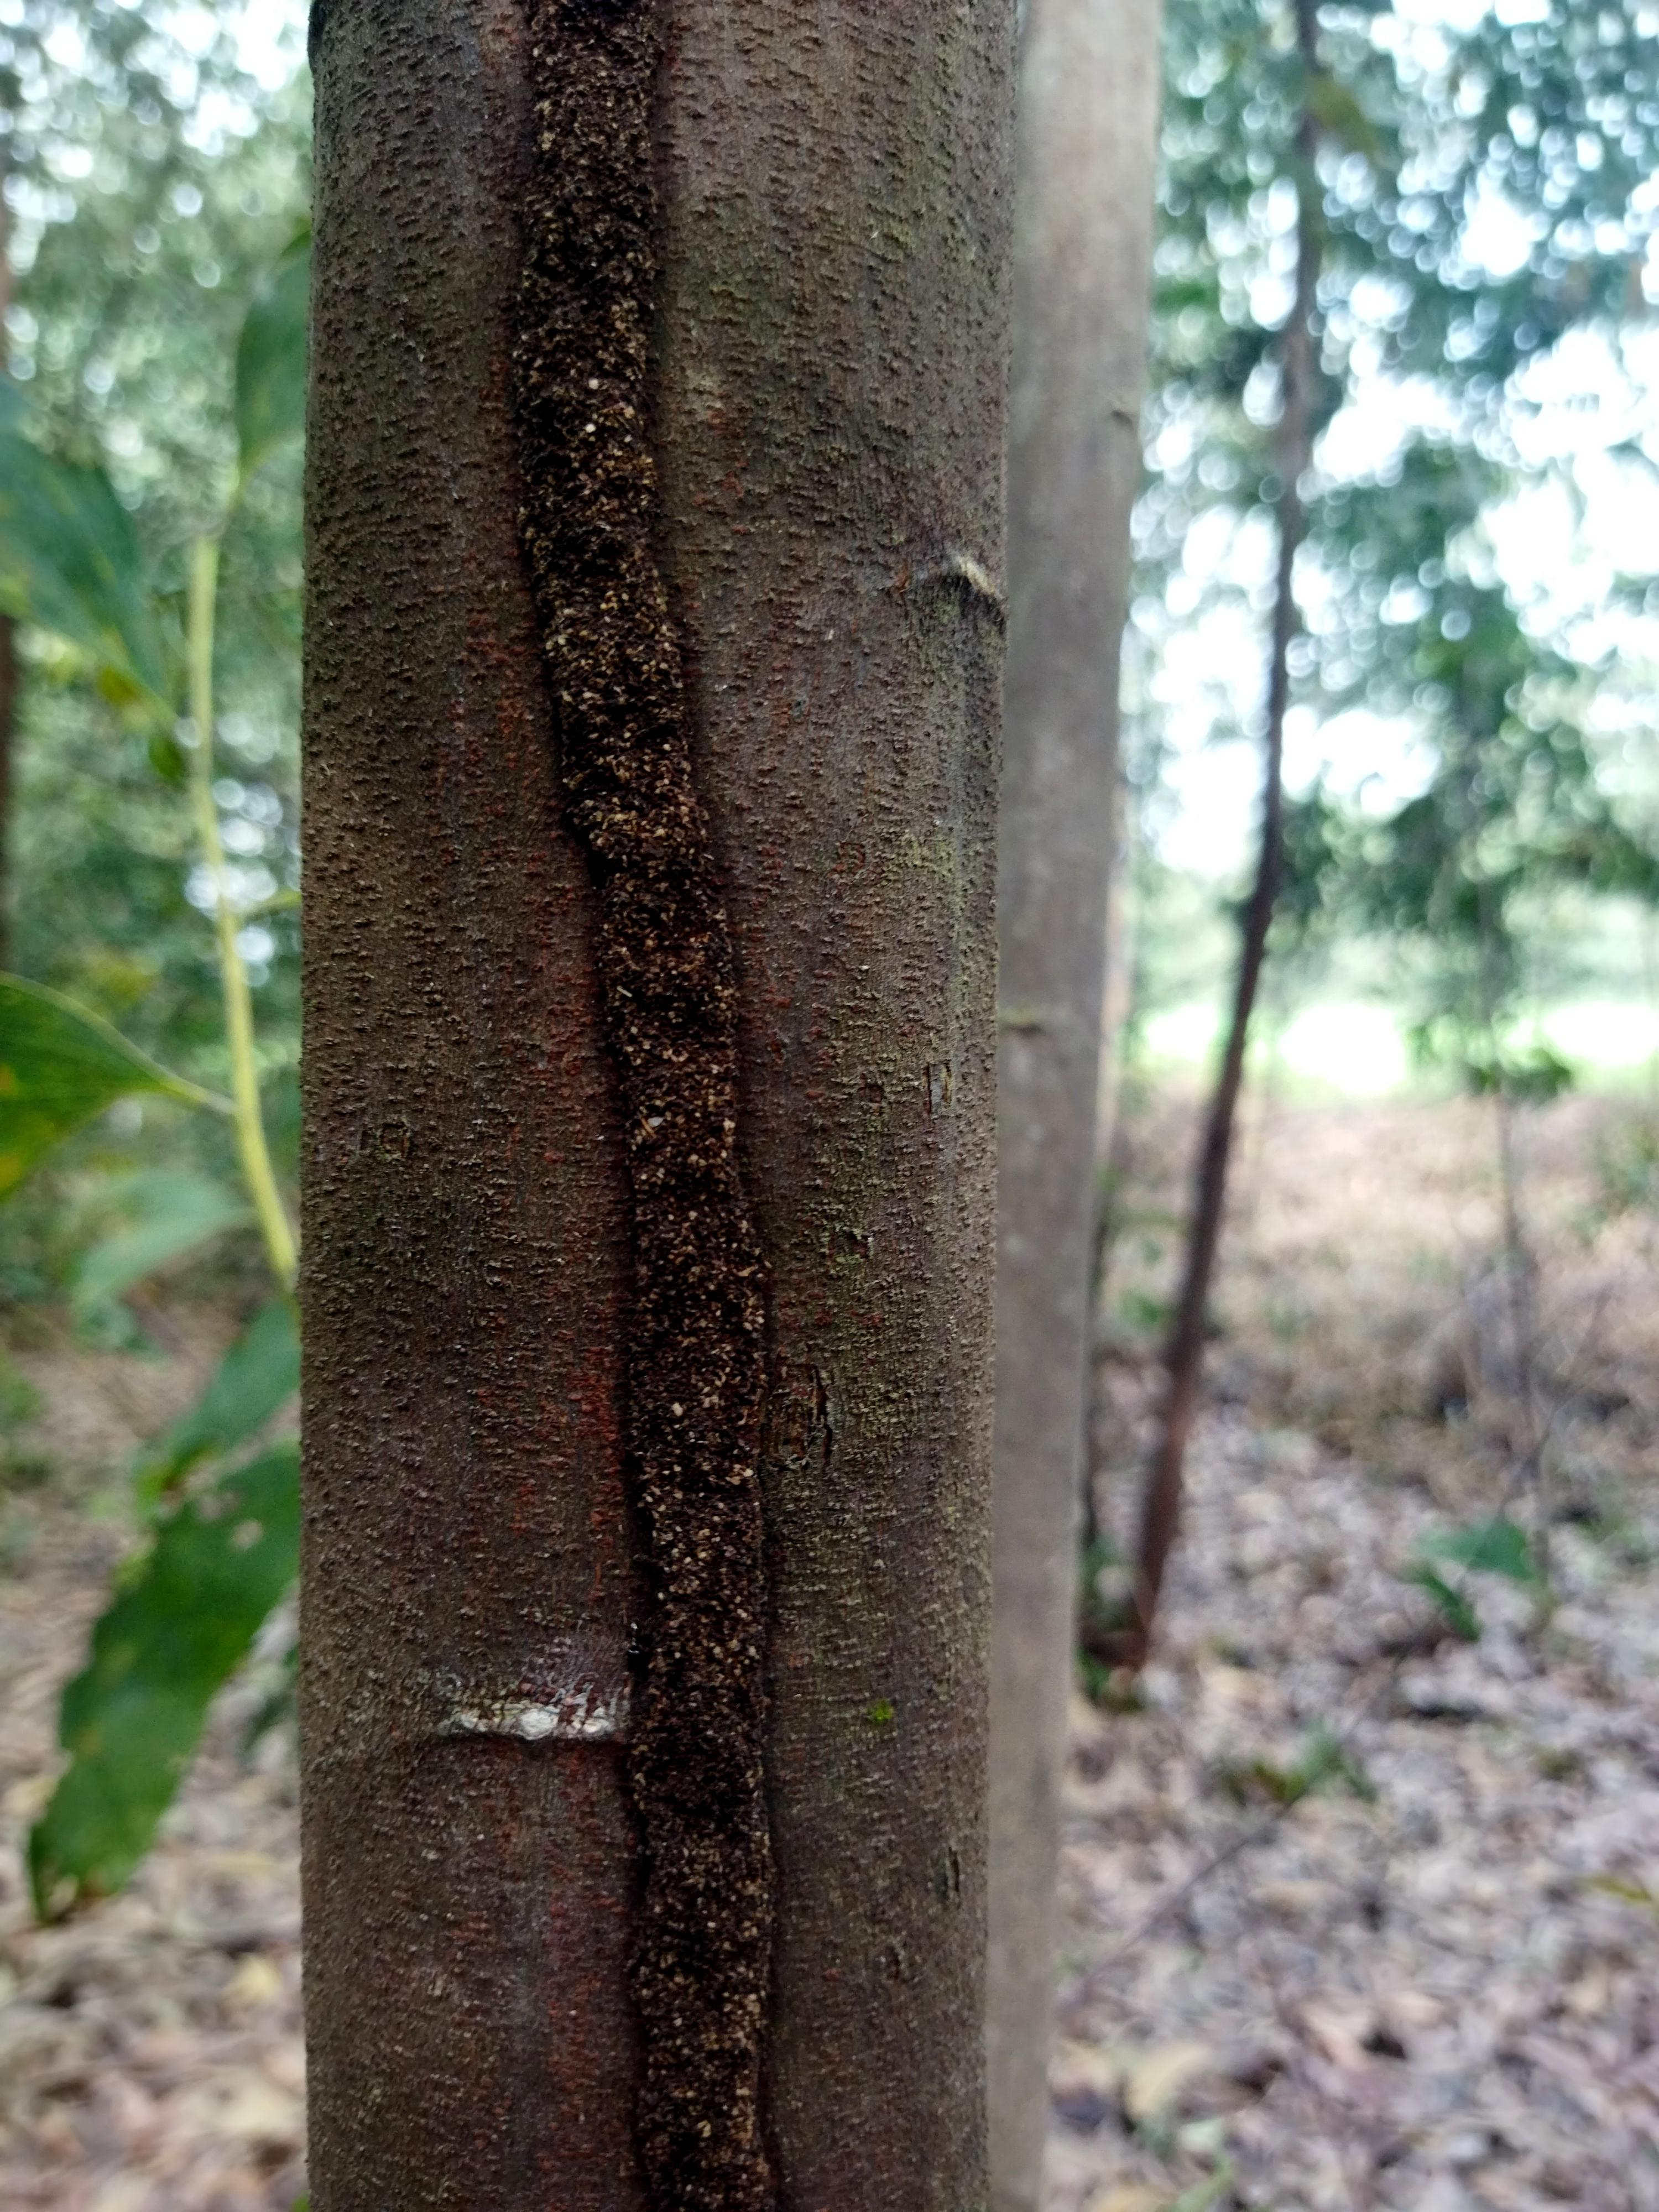Termite - Nest: (483, 0, 850, 2212)
